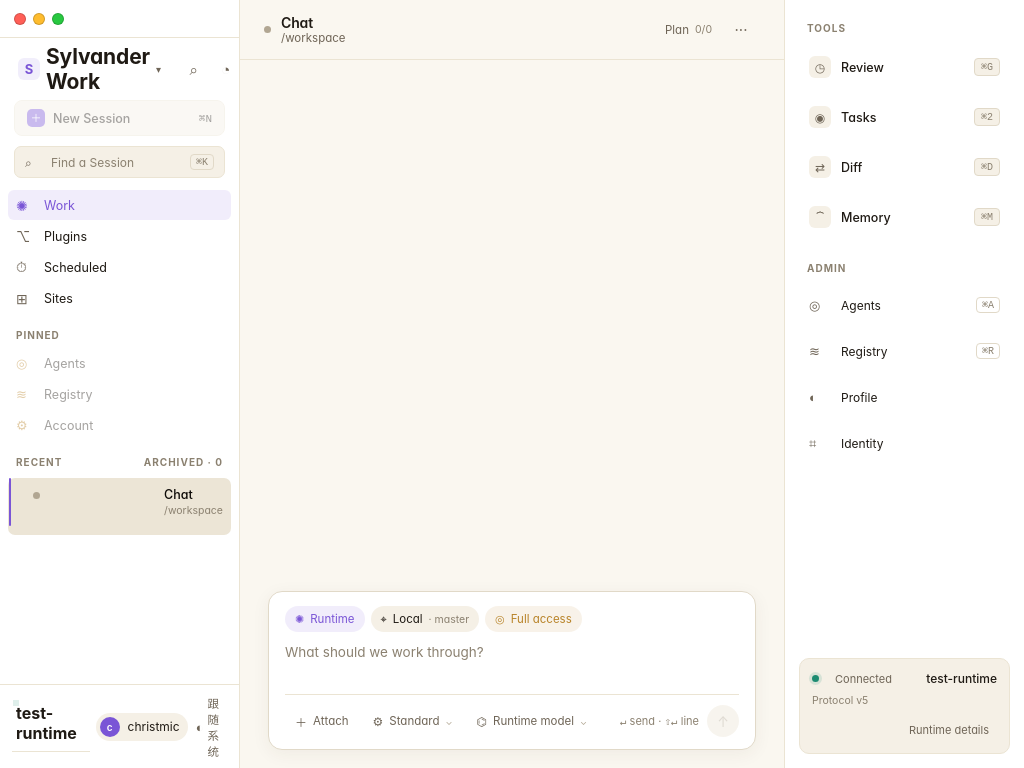
Sylvander Work › rolls back the local turn lock when native chat submission fails
In the text box named "Message Sylvander": (512, 664) 285,642 -> 739,686, type "Keep this draft"
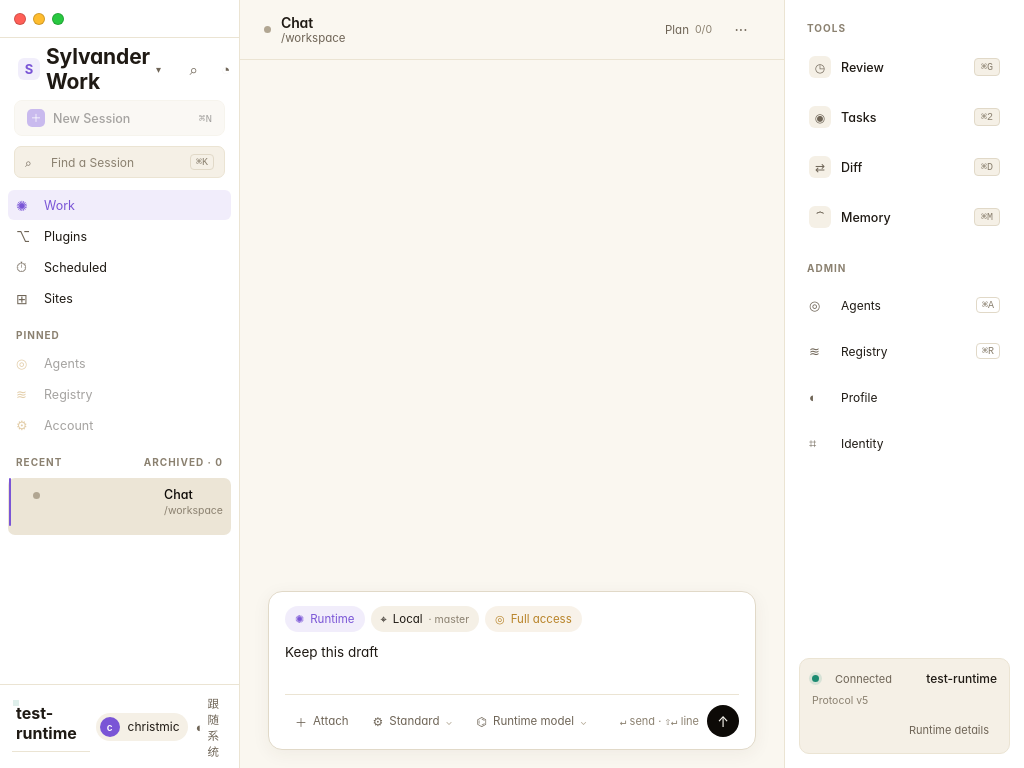
Click the button named "Send": (723, 721) 707,705 -> 739,737
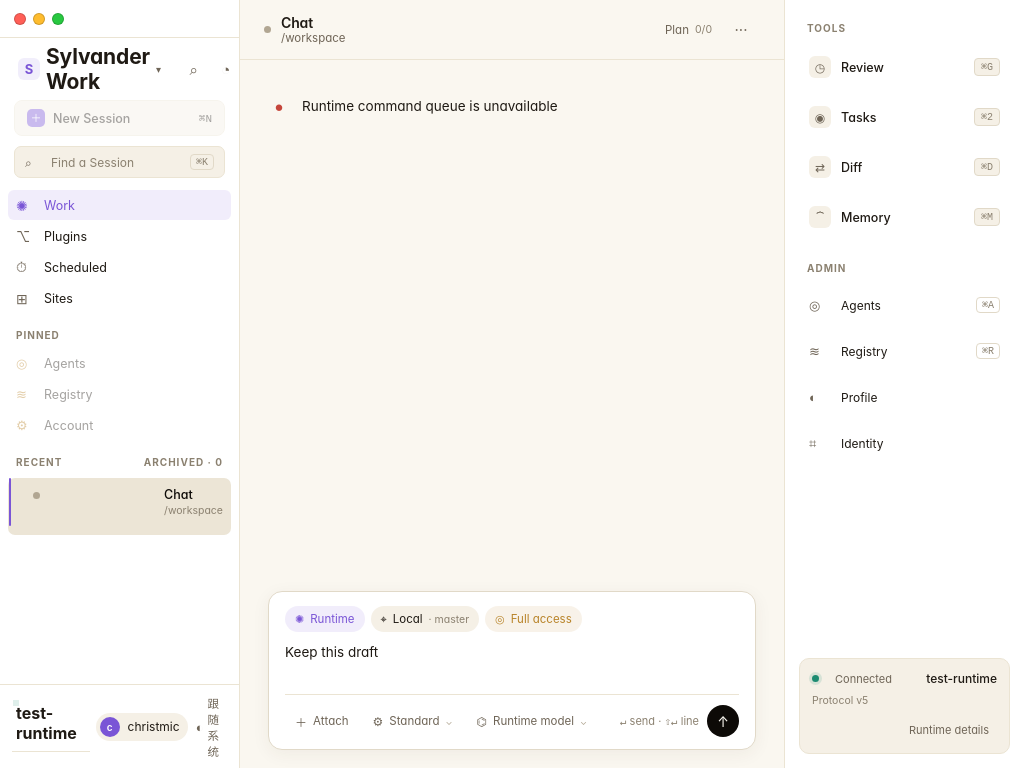
Expected: the text box named "Message Sylvander" is enabled, 285,642 -> 739,686
Expected: the text "Runtime command queue is unavailable" is shown, 302,98 -> 558,114
